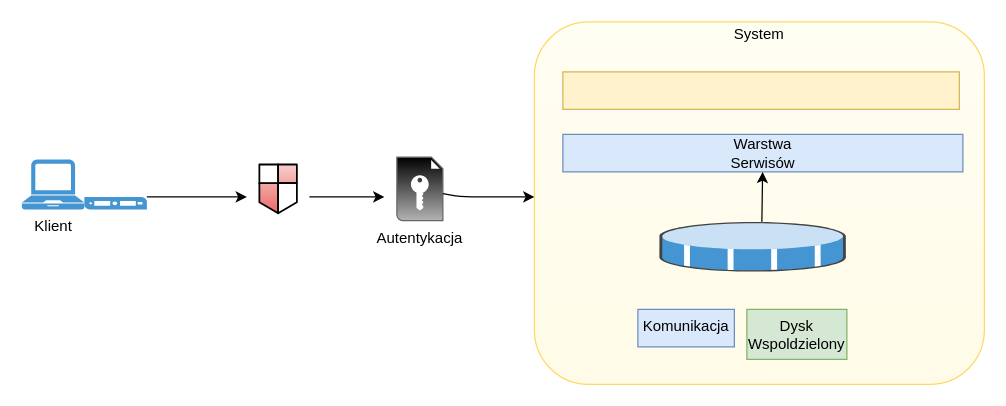
The diagram is 1006 pixels wide and 406 high, and some of its shapes have lost their labels. Each missing label, with the box of its shape:
Baza danych: (658, 221, 846, 272)
Interfejsy Uzytkownika: (562, 71, 959, 109)
Zapora Sieciowa: (258, 163, 298, 214)
